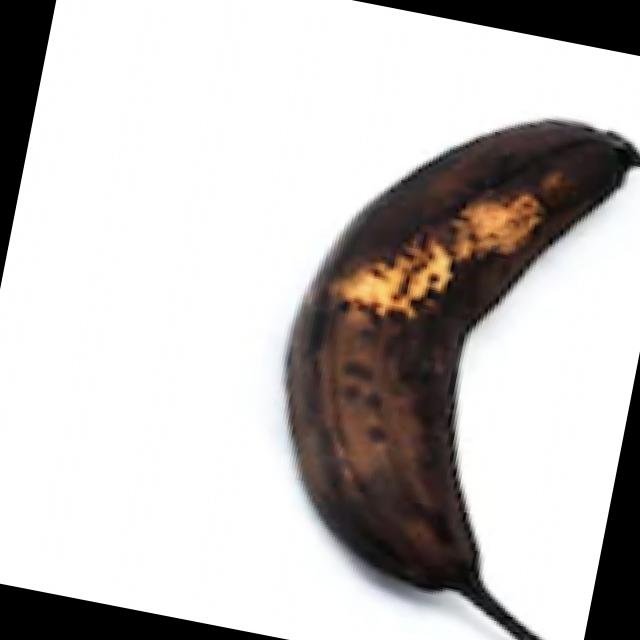rotten-banana: (240, 47, 640, 640)
